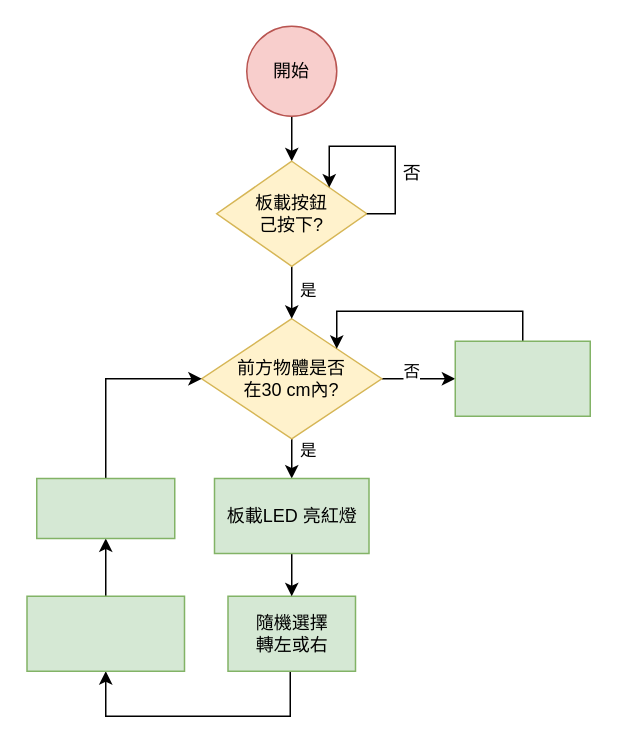
This 617x755 diagram has some shape labels left out. The shapes that lost their labels are listed below. From the top down, each one's centre as x and y in pixels, then its label:
At [522,378]: "前進".
At [105,507]: "關閉板載LED".
At [105,633]: "等待隨機時間 （轉到隨機方向）".
